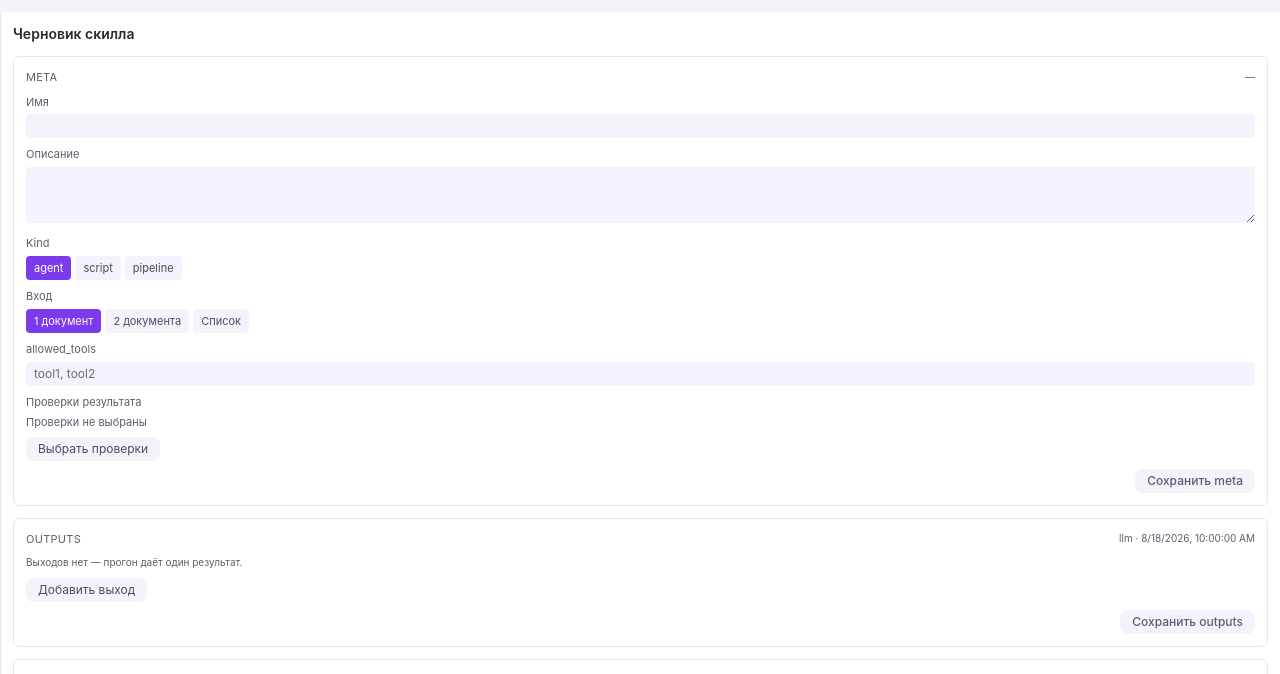
Test: ArtifactsPanel outputs › does not PATCH when client validation fails
The image size is (1280, 674).
What coordinates should you click on to do the following:
click the button "Добавить выход"
I would click on:
 (87, 590)
Its box is x1=26 y1=578 x2=147 y2=602.
(page scrolled)
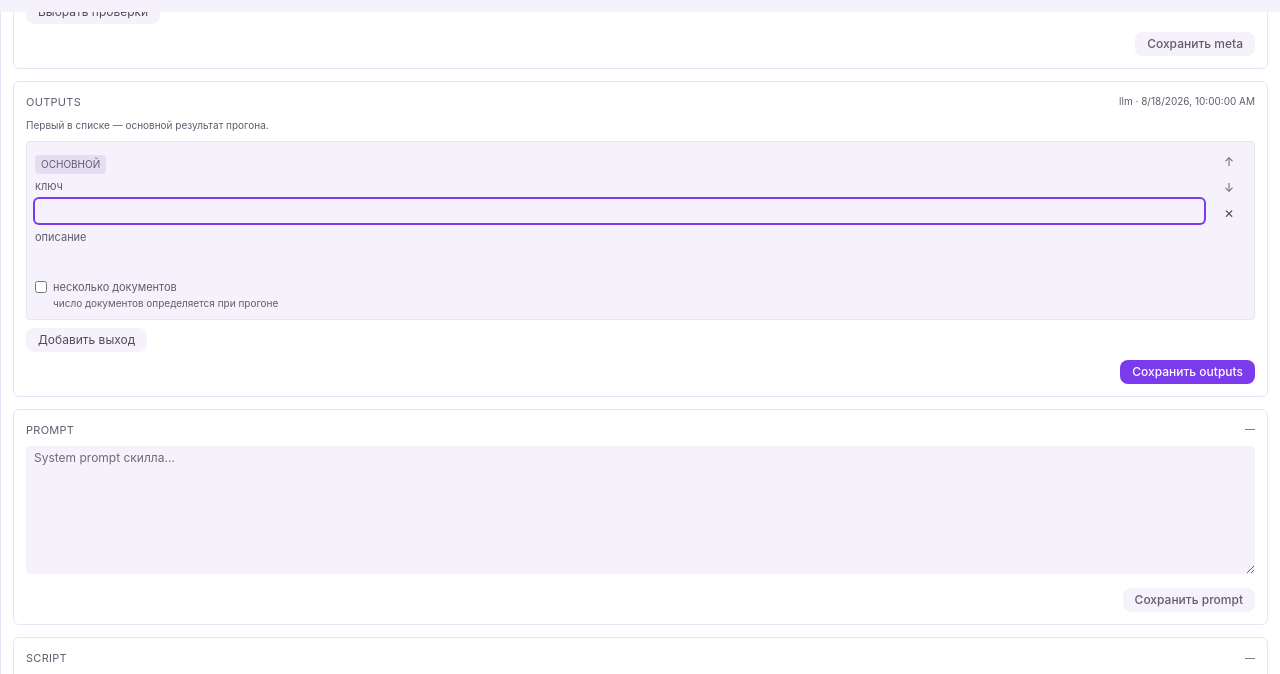
What coordinates should you click on to do the following:
click the button "Сохранить outputs"
I would click on:
 (1188, 372)
Its box is x1=1120 y1=360 x2=1255 y2=384.
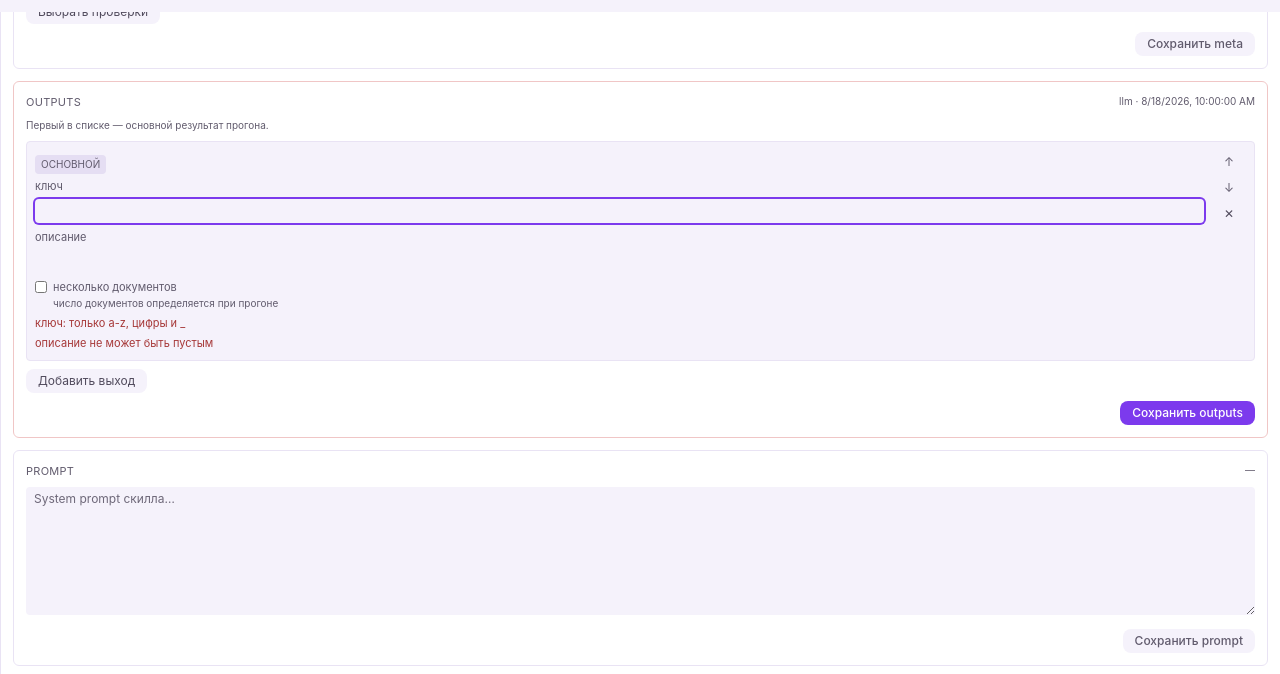
expect the text "ключ: только a-z, цифры и _" is shown: met, box x1=35 y1=316 x2=185 y2=330
